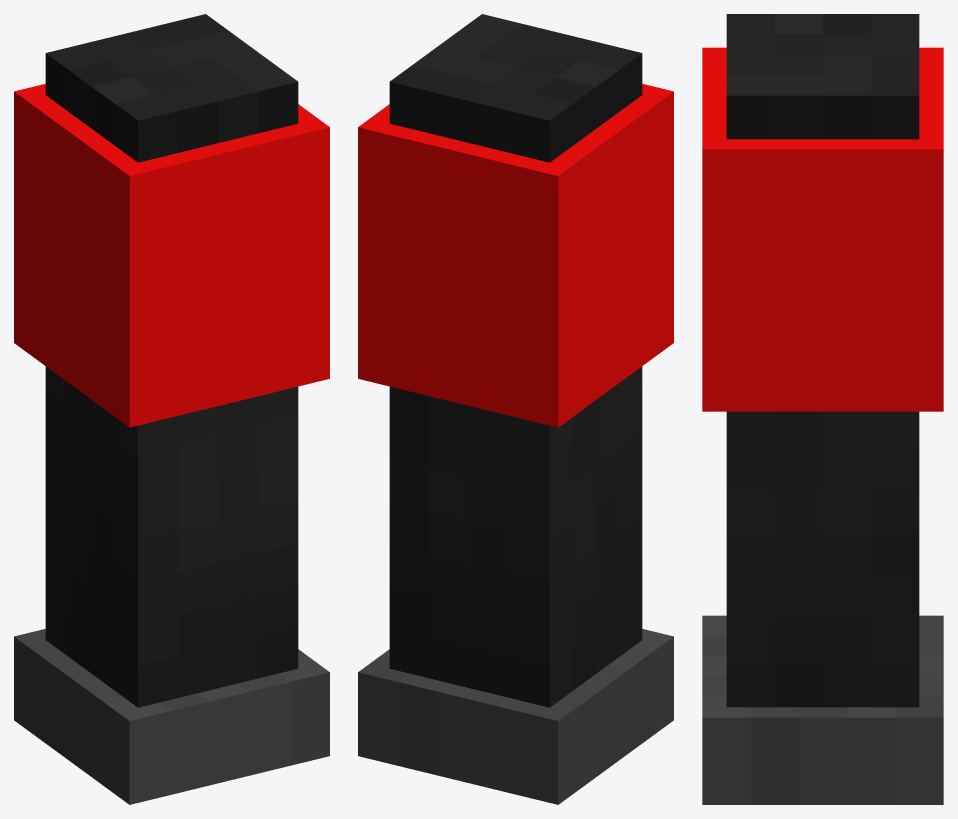
The model's file is redlight.obj.
3 renders of one model, left to right at view 1: azimuth 30°, elevation 25°; view 2: azimuth 150°, elevation 25°; view 3: azimuth 270°, elevation 25°, orthographic. The views are drawn at different scales.
Visible parts, largest first — view 1: li, lj, lk; view 2: li, lj, lk; view 3: li, lj, lk.
Part boxes in pixels (x1,y1,x2,y2): li: [45, 14, 298, 707]; lj: [14, 84, 329, 427]; lk: [14, 629, 329, 804]; li: [389, 14, 642, 707]; lj: [358, 84, 673, 427]; lk: [358, 629, 673, 804]; li: [726, 14, 919, 707]; lj: [702, 47, 943, 411]; lk: [702, 615, 943, 804].
Size of the model in its own units: 0.325 by 1.04 by 0.325.
Materials: 1 (1 with a texture image).
